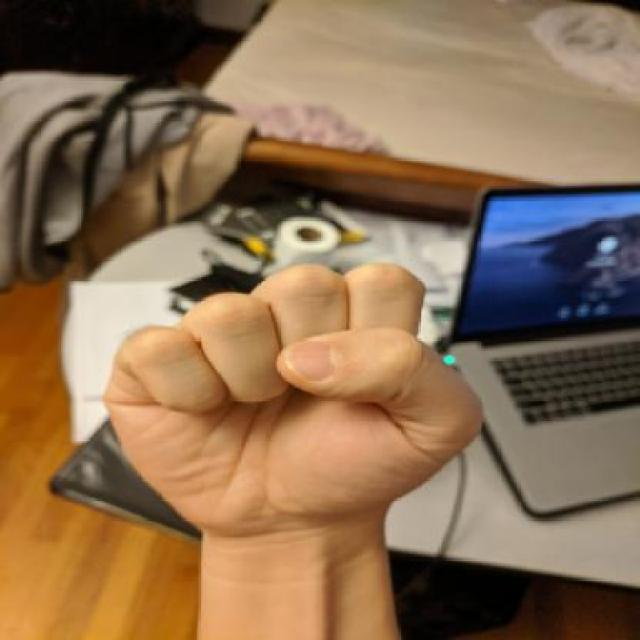S: (83, 229, 501, 584)
